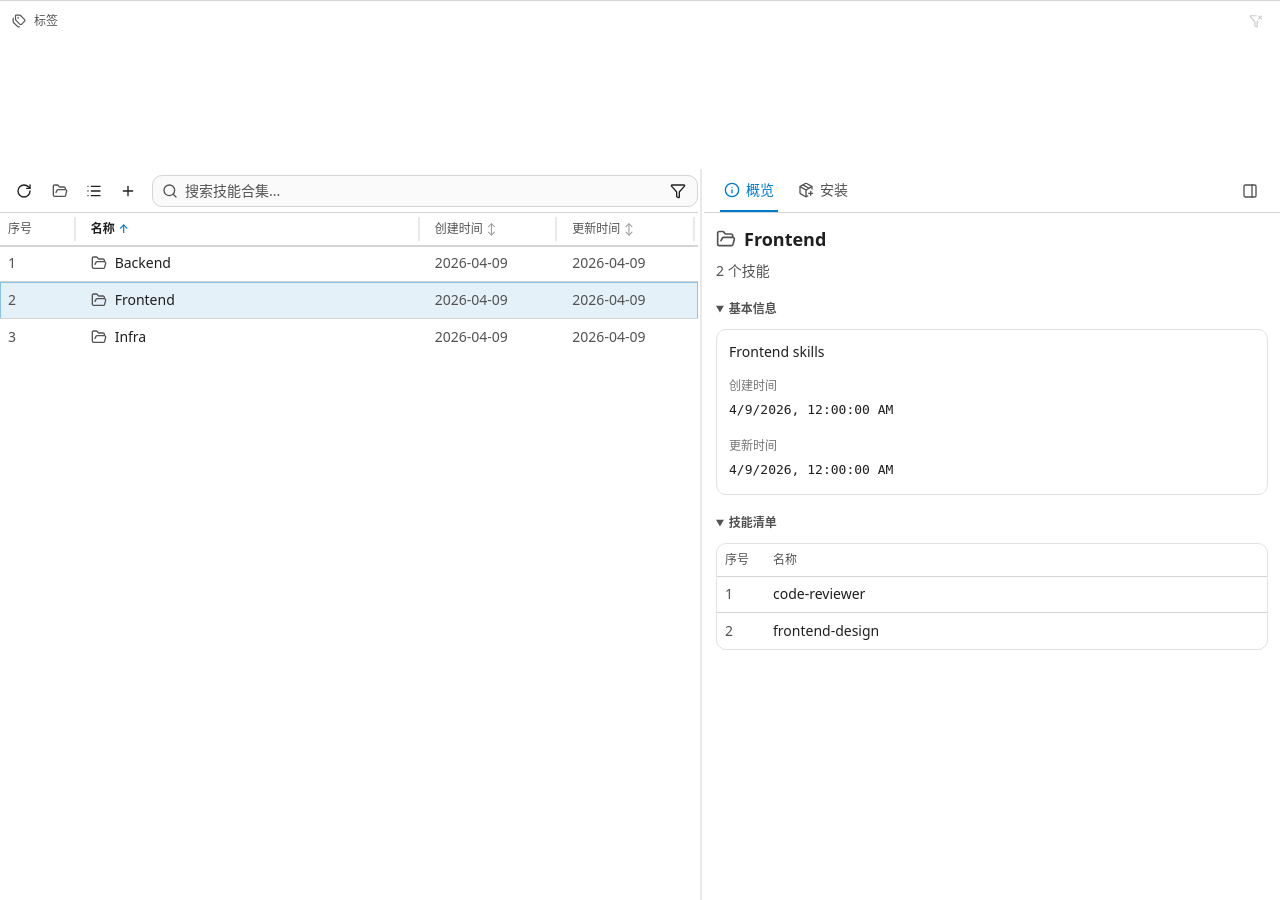
Test case: CollectionsListView › keeps the selected collection in a compact toolbar without import, export, or folder views
Press + in the element named "技能列表", box [0,169,698,355]
Expected: the button named "新建合集" is shown, [112,174,144,206]
Right-click the row "2 Frontend 2026-04-09 2026-04-09" at (349, 300), box [0,282,698,318]
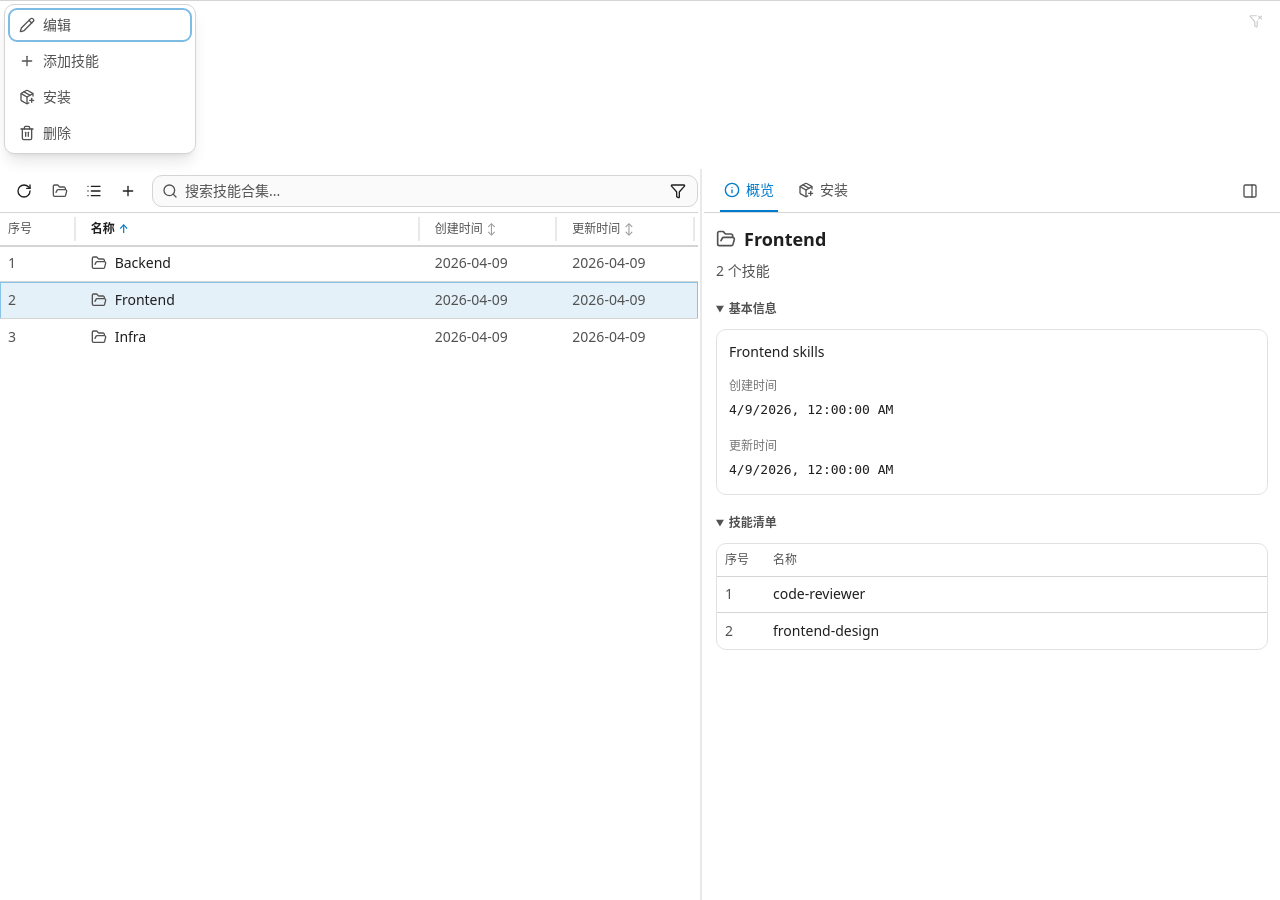
Now the menu item "编辑" is shown, box [9,9,191,41]
Now the menu item "删除" is shown, box [9,117,191,149]
Now the menu item "安装" is shown, box [9,81,191,113]
